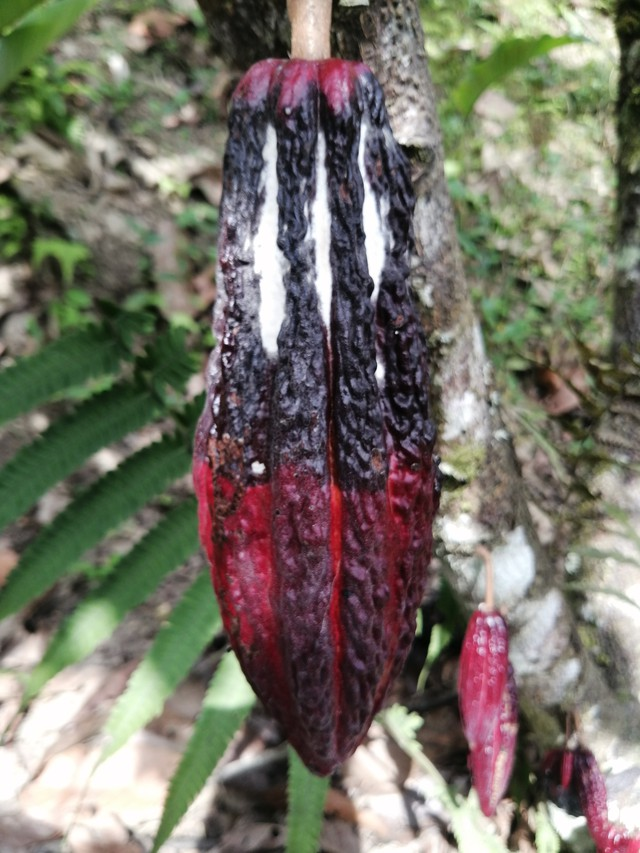moniliophthora roreri: (177, 36, 481, 789)
